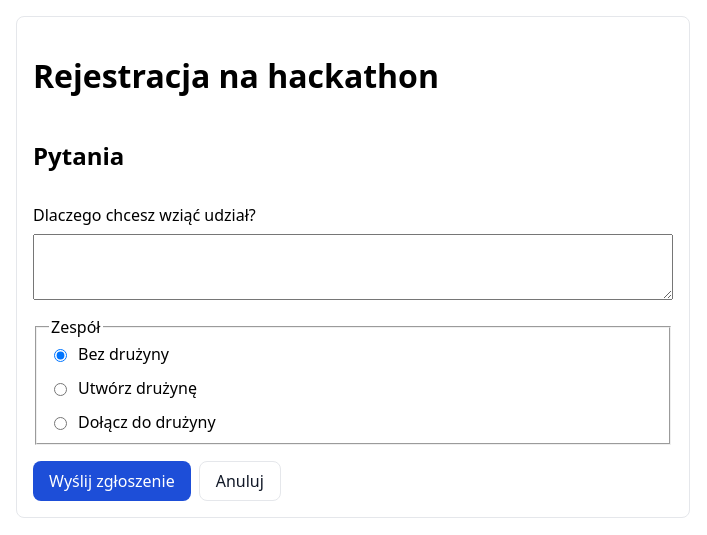
Test case: RegistrationEntryPage › submits answers without a team
Type "Chcę stworzyć ciekawy projekt." into the text box labelled "Dlaczego chcesz wziąć udział?" at x=353, y=267, box [33, 234, 673, 300]
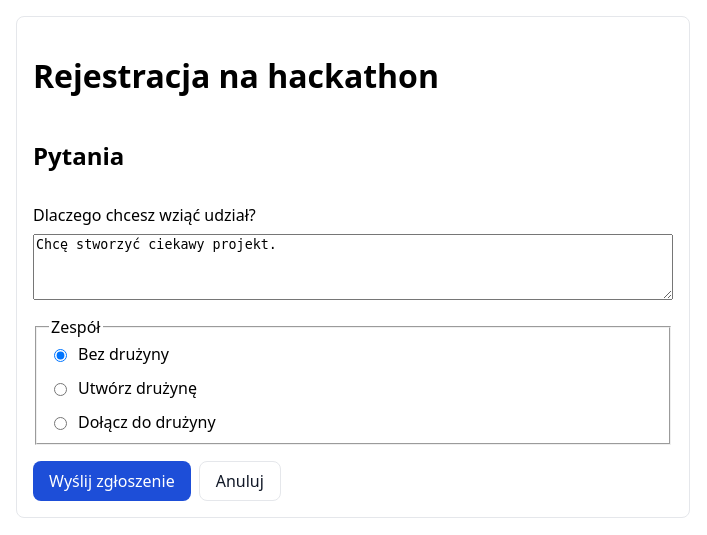
Click the button "Wyślij zgłoszenie" at x=112, y=481, box [33, 461, 191, 501]
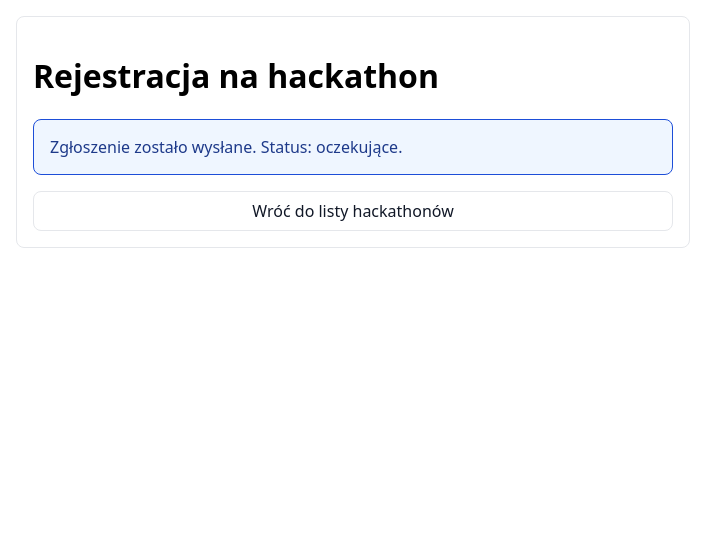
Result: the text "Zgłoszenie zostało wysłane. Status: oczekujące." is shown at [33, 119, 673, 175]
